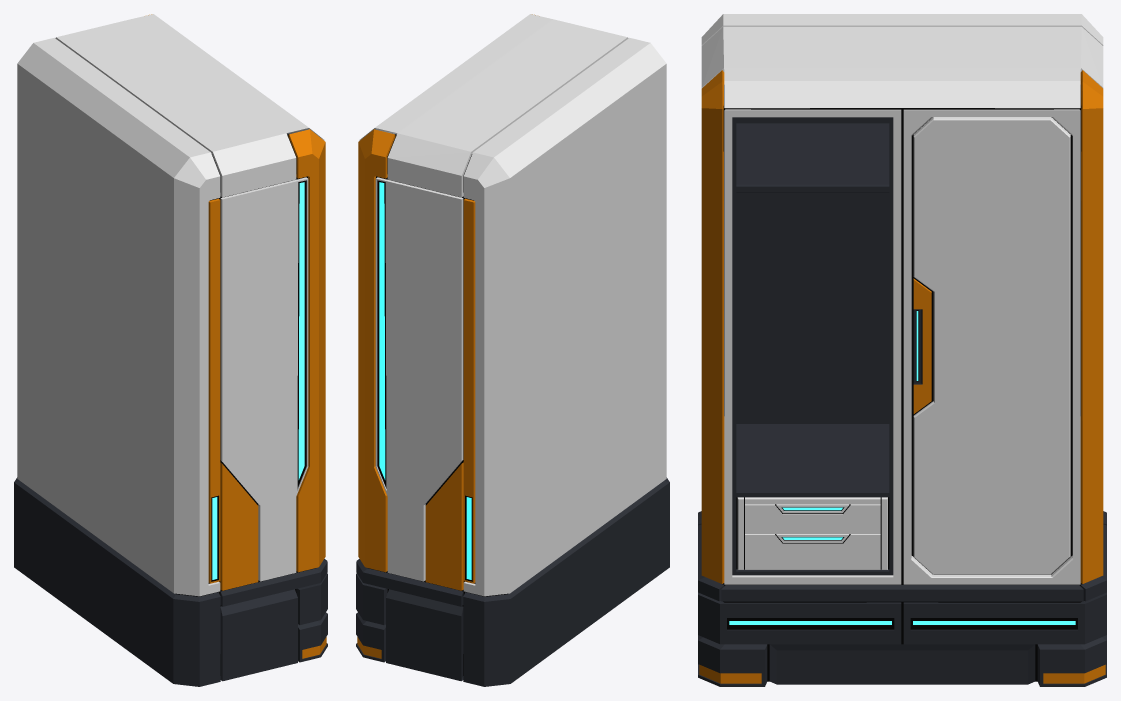
Rendered from SM_Wardrobe_Double.fbx.
3 renders of one model, left to right at view 1: azimuth 30°, elevation 25°; view 2: azimuth 150°, elevation 25°; view 3: azimuth 270°, elevation 25°, orthographic. The views are drawn at different scales.
Parts seen in each view (by area): view 1: SM_Wardrobe_Double; view 2: SM_Wardrobe_Double; view 3: SM_Wardrobe_Double, SM_Wardrobe_Door, SM_Wardrobe_Drawer_B, SM_Wardrobe_Drawer_A.
Boxes of the visible parts, x1=… form: SM_Wardrobe_Double: x1=14, y1=14, x2=327, y2=686; SM_Wardrobe_Double: x1=356, y1=14, x2=669, y2=686; SM_Wardrobe_Double: x1=698, y1=14, x2=1106, y2=686; SM_Wardrobe_Door: x1=913, y1=117, x2=1070, y2=574; SM_Wardrobe_Drawer_B: x1=745, y1=534, x2=880, y2=569; SM_Wardrobe_Drawer_A: x1=745, y1=504, x2=880, y2=533.
Bounding box in the file's own units: 55.96 × 180 × 112.
